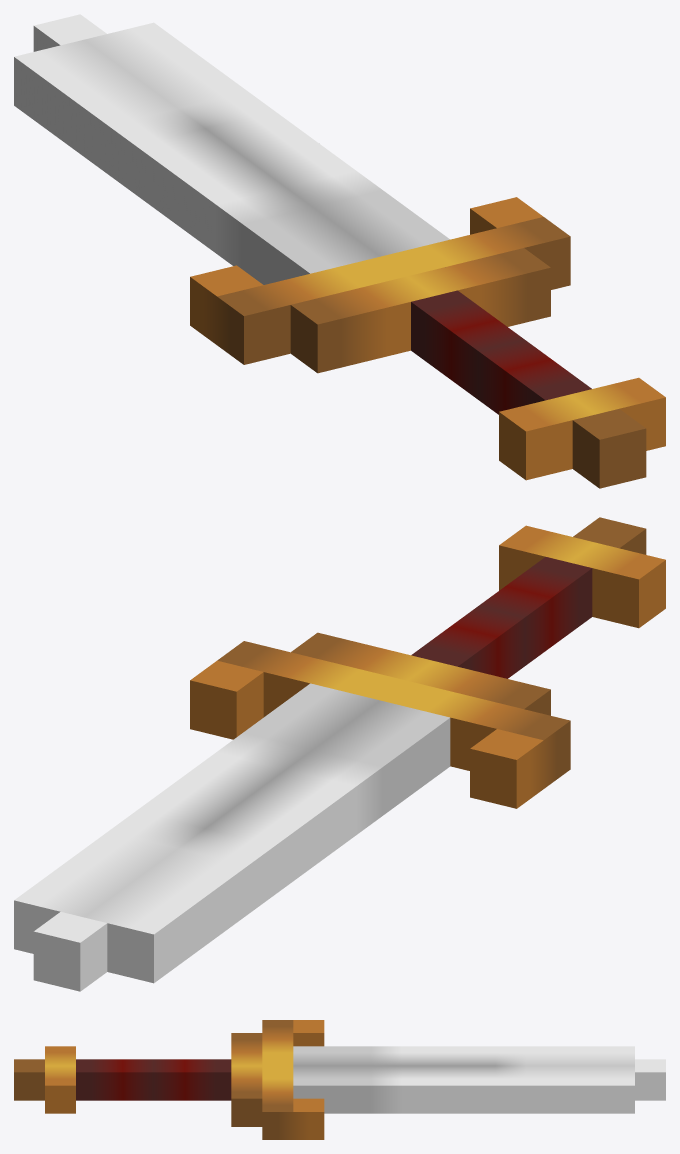
File: sword1.fbx
3 views of the same model, one above another, from view 1: azimuth 30°, elevation 25°; view 2: azimuth 150°, elevation 25°; view 3: azimuth 270°, elevation 25° (orthographic). The views are drawn at different scales.
Parts seen in each view (by area): view 1: sword1; view 2: sword1; view 3: sword1.
Boxes of the visible parts, x1=… form: sword1: x1=14, y1=14, x2=665, y2=488; sword1: x1=14, y1=517, x2=665, y2=991; sword1: x1=14, y1=1020, x2=665, y2=1139.
Size of the model in its own units: 7 by 1 by 21.
Materials: 1 (1 with a texture image).
